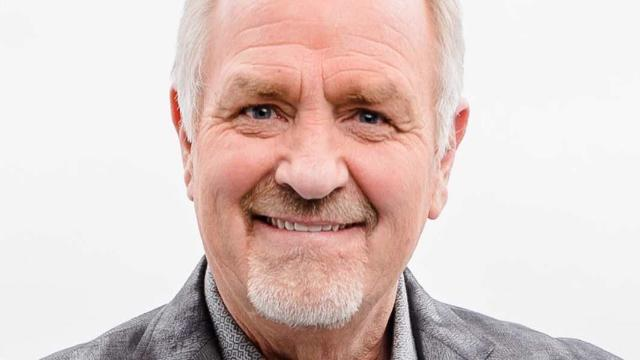crows_feet: (388, 118, 419, 144), (208, 108, 236, 130)
forehead: (247, 36, 300, 52), (359, 30, 398, 49), (332, 63, 376, 78)
frown_line: (291, 76, 309, 104), (318, 75, 334, 101)
gummy_smile: (350, 173, 380, 211), (244, 166, 272, 190)
